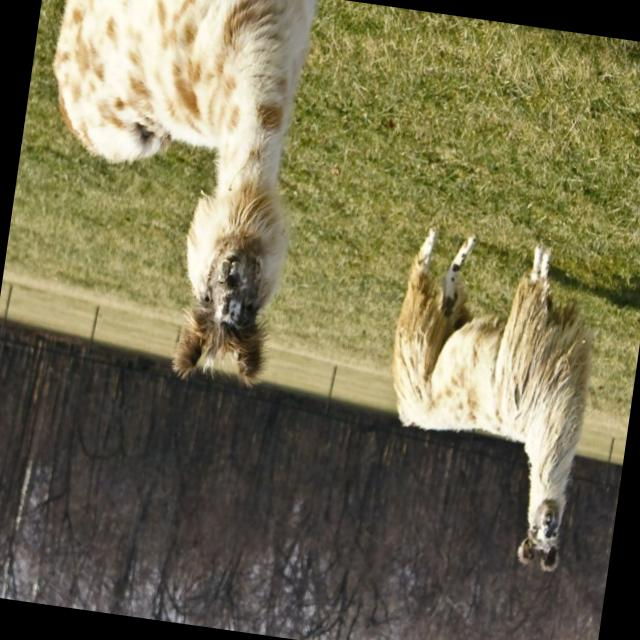alpaca: (11, 0, 324, 390), (366, 222, 609, 574)
